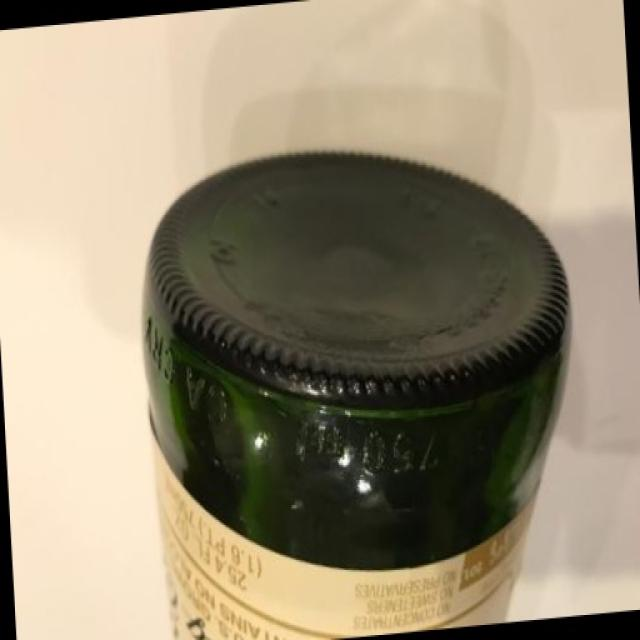vidrio: (95, 114, 594, 636)
